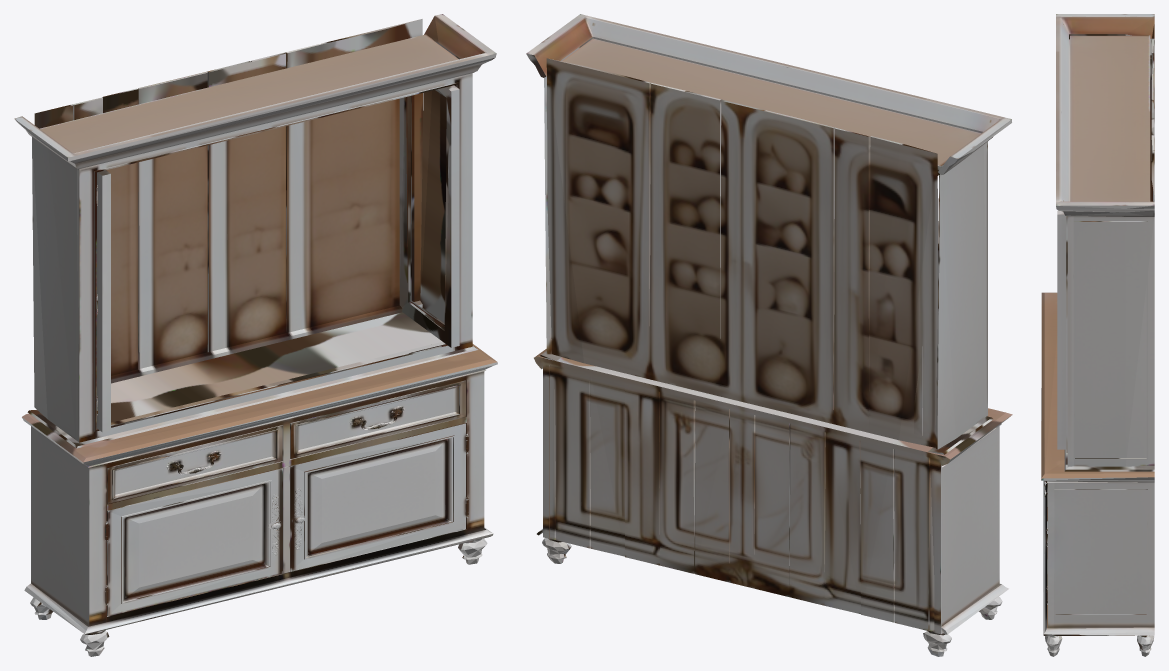
Rendered from edited_mesh.glb.
The picture shows the model from 3 angles, left to right: view 1: azimuth 30°, elevation 25°; view 2: azimuth 150°, elevation 25°; view 3: azimuth 270°, elevation 25°; orthographic projection. The views are drawn at different scales.
Visible parts, largest first — view 1: solid_001_wire; view 2: solid_001_wire; view 3: solid_001_wire.
Part boxes in pixels (x1,y1,x2,y2): solid_001_wire: [14, 14, 497, 656]; solid_001_wire: [526, 14, 1012, 656]; solid_001_wire: [1041, 14, 1154, 656].
Bounding box in the file's own units: 1.23 × 1.38 × 0.3083.
1 material, 1 textured.
